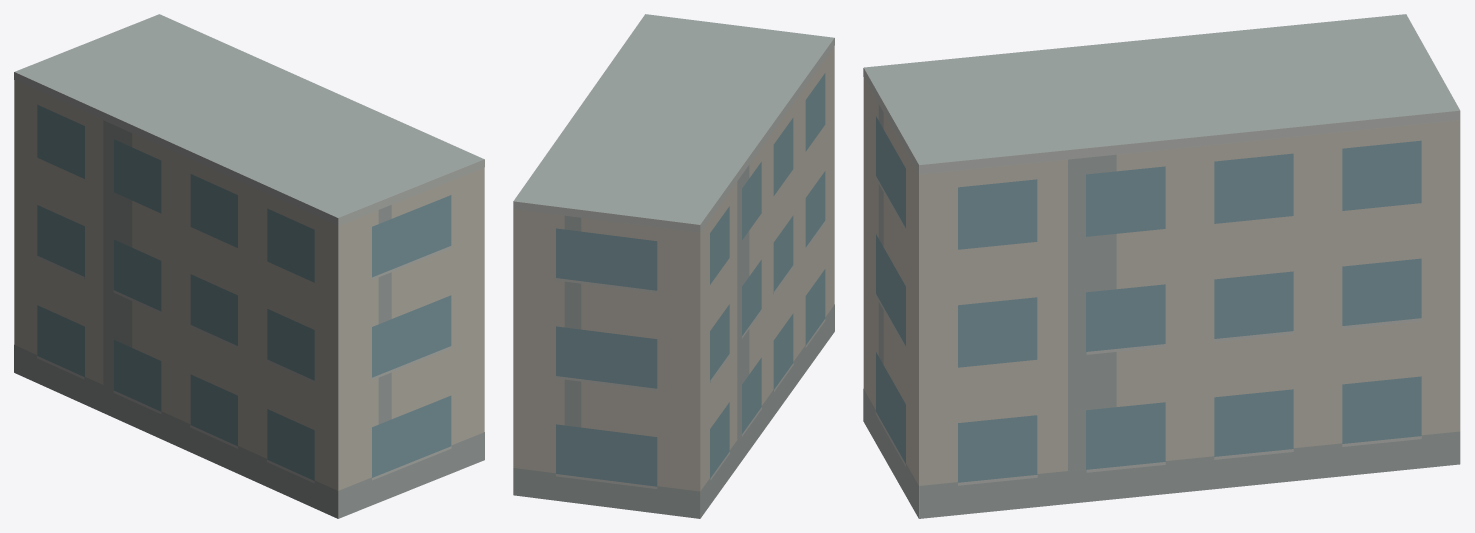
The model's file is residential-58851359-43a2-4bd9-8767-b93bd1c3643d.glb.
The picture shows the model from 3 angles, left to right: view 1: azimuth 30°, elevation 25°; view 2: azimuth 150°, elevation 25°; view 3: azimuth 270°, elevation 25°; orthographic projection. The views are drawn at different scales.
Visible parts, largest first — view 1: residential-58851359-43a2-4bd9-8767-b93bd1c3643d.tmp; view 2: residential-58851359-43a2-4bd9-8767-b93bd1c3643d.tmp; view 3: residential-58851359-43a2-4bd9-8767-b93bd1c3643d.tmp.
Part boxes in pixels (x1,y1,x2,y2): residential-58851359-43a2-4bd9-8767-b93bd1c3643d.tmp: (14,14,484,518); residential-58851359-43a2-4bd9-8767-b93bd1c3643d.tmp: (513,14,834,518); residential-58851359-43a2-4bd9-8767-b93bd1c3643d.tmp: (863,14,1460,518).
Bounding box in the file's own units: 8.39 × 9.15 × 14.
